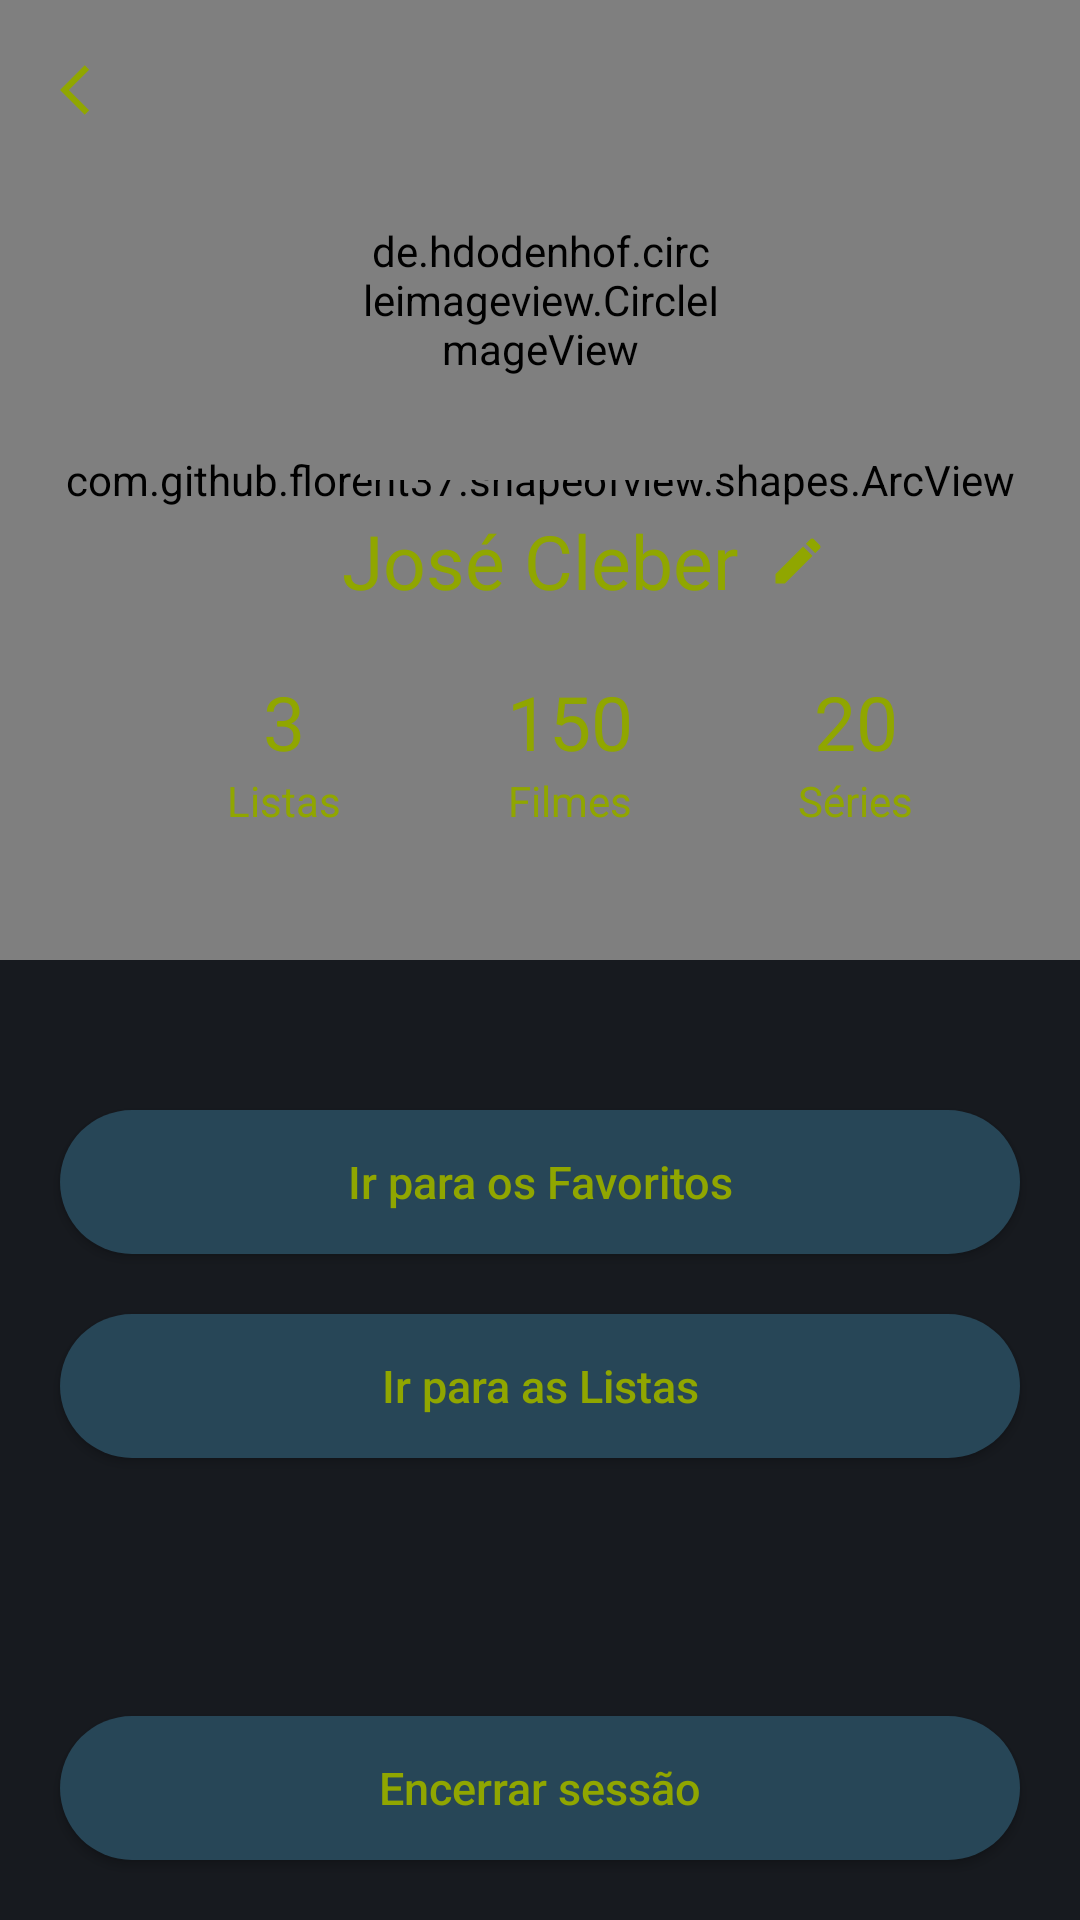

Icon bounding boxes for this 1080×1920 phone screenshot, format [x1,y1,x2,y2]:
arrow back: [60,65,89,115]
create: [775,538,821,584]
